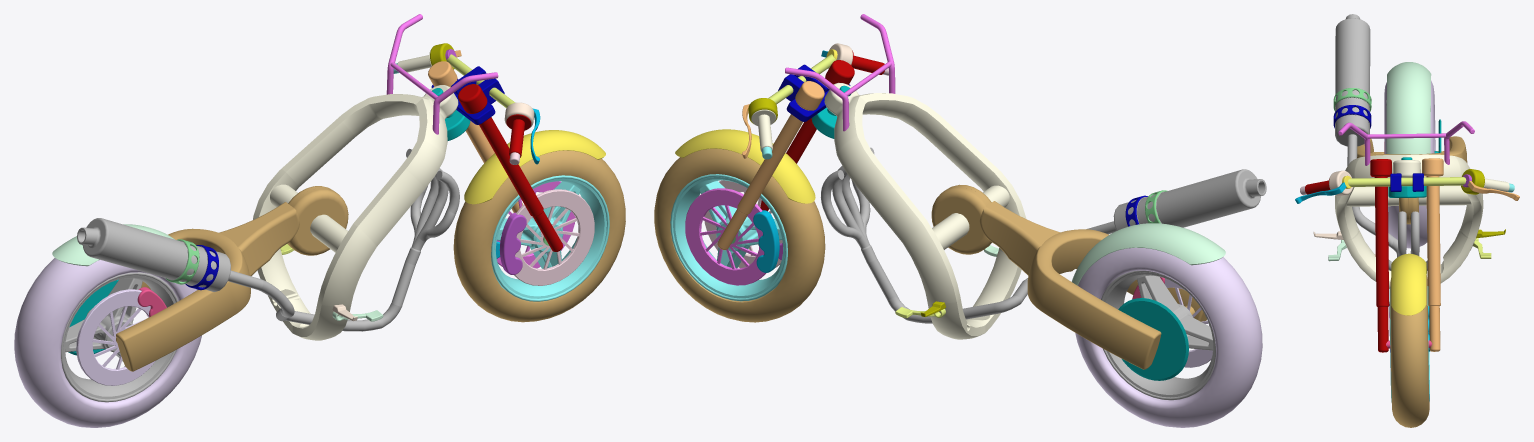
File: internal_mechanical_assembly.glb
The picture shows the model from 3 angles, left to right: view 1: azimuth 30°, elevation 25°; view 2: azimuth 150°, elevation 25°; view 3: azimuth 270°, elevation 25°; orthographic projection. The views are drawn at different scales.
Visible parts, largest first — view 1: User Library-racing bike_racing bike.sldasm-Part-25-1, User Library-racing bike_racing bike.sldasm-Part-42-1, User Library-racing bike_racing bike.sldasm-Part-20-1, User Library-racing bike_racing bike.sldasm-Part-43-1, User Library-racing bike_racing bike.sldasm-Part-9-1, User Library-racing bike_racing bike.sldasm-Part-38-1, User Library-racing bike_racing bike.sldasm-Part-31-1, User Library-racing bike_racing bike.sldasm-Part-40-1, User Library-racing bike_racing bike.sldasm-Part-2-1, User Library-racing bike_racing bike.sldasm-Part-34-1, User Library-racing bike_racing bike.sldasm-Part-26-1, User Library-racing bike_racing bike.sldasm-Part-16-1 (+8 smaller); view 2: User Library-racing bike_racing bike.sldasm-Part-25-1, User Library-racing bike_racing bike.sldasm-Part-42-1, User Library-racing bike_racing bike.sldasm-Part-20-1, User Library-racing bike_racing bike.sldasm-Part-43-1, User Library-racing bike_racing bike.sldasm-Part-9-1, User Library-racing bike_racing bike.sldasm-Part-38-1, User Library-racing bike_racing bike.sldasm-Part-31-1, User Library-racing bike_racing bike.sldasm-Part-39-1, User Library-racing bike_racing bike.sldasm-Part-27-1, User Library-racing bike_racing bike.sldasm-Part-41-1, User Library-racing bike_racing bike.sldasm-Part-34-1, User Library-racing bike_racing bike.sldasm-Part-36-1 (+8 smaller); view 3: User Library-racing bike_racing bike.sldasm-Part-25-1, User Library-racing bike_racing bike.sldasm-Part-9-1, User Library-racing bike_racing bike.sldasm-Part-43-1, User Library-racing bike_racing bike.sldasm-Part-27-1, User Library-racing bike_racing bike.sldasm-Part-36-1, User Library-racing bike_racing bike.sldasm-Part-26-1, User Library-racing bike_racing bike.sldasm-Part-34-1, User Library-racing bike_racing bike.sldasm-Part-42-1, User Library-racing bike_racing bike.sldasm-Part-16-1, User Library-racing bike_racing bike.sldasm-Part-20-1, User Library-racing bike_racing bike.sldasm-Part-17-1, User Library-racing bike_racing bike.sldasm-Part-30-1 (+10 smaller).
Part boxes in pixels (bbox=[...]): User Library-racing bike_racing bike.sldasm-Part-25-1: bbox=[253, 85, 458, 340]; User Library-racing bike_racing bike.sldasm-Part-42-1: bbox=[14, 258, 201, 427]; User Library-racing bike_racing bike.sldasm-Part-20-1: bbox=[87, 186, 348, 371]; User Library-racing bike_racing bike.sldasm-Part-43-1: bbox=[453, 150, 625, 322]; User Library-racing bike_racing bike.sldasm-Part-9-1: bbox=[77, 148, 459, 331]; User Library-racing bike_racing bike.sldasm-Part-38-1: bbox=[491, 175, 609, 301]; User Library-racing bike_racing bike.sldasm-Part-31-1: bbox=[61, 272, 178, 402]; User Library-racing bike_racing bike.sldasm-Part-40-1: bbox=[514, 189, 594, 285]; User Library-racing bike_racing bike.sldasm-Part-2-1: bbox=[76, 289, 155, 385]; User Library-racing bike_racing bike.sldasm-Part-34-1: bbox=[464, 130, 605, 204]; User Library-racing bike_racing bike.sldasm-Part-26-1: bbox=[458, 84, 562, 251]; User Library-racing bike_racing bike.sldasm-Part-16-1: bbox=[386, 14, 498, 134]; User Library-racing bike_racing bike.sldasm-Part-25-1: bbox=[824, 82, 1026, 339]; User Library-racing bike_racing bike.sldasm-Part-42-1: bbox=[1075, 247, 1262, 427]; User Library-racing bike_racing bike.sldasm-Part-20-1: bbox=[931, 184, 1206, 369]; User Library-racing bike_racing bike.sldasm-Part-43-1: bbox=[654, 148, 825, 322]; User Library-racing bike_racing bike.sldasm-Part-9-1: bbox=[820, 147, 1266, 323]; User Library-racing bike_racing bike.sldasm-Part-38-1: bbox=[670, 174, 787, 301]; User Library-racing bike_racing bike.sldasm-Part-31-1: bbox=[1101, 270, 1215, 400]; User Library-racing bike_racing bike.sldasm-Part-39-1: bbox=[685, 188, 766, 285]; User Library-racing bike_racing bike.sldasm-Part-27-1: bbox=[1071, 223, 1225, 285]; User Library-racing bike_racing bike.sldasm-Part-41-1: bbox=[1118, 298, 1188, 380]; User Library-racing bike_racing bike.sldasm-Part-34-1: bbox=[675, 129, 815, 203]; User Library-racing bike_racing bike.sldasm-Part-36-1: bbox=[717, 81, 824, 250]; User Library-racing bike_racing bike.sldasm-Part-25-1: bbox=[1335, 154, 1483, 288]; User Library-racing bike_racing bike.sldasm-Part-9-1: bbox=[1335, 14, 1427, 270]; User Library-racing bike_racing bike.sldasm-Part-43-1: bbox=[1390, 275, 1429, 427]; User Library-racing bike_racing bike.sldasm-Part-27-1: bbox=[1386, 62, 1431, 154]; User Library-racing bike_racing bike.sldasm-Part-36-1: bbox=[1422, 158, 1443, 351]; User Library-racing bike_racing bike.sldasm-Part-26-1: bbox=[1370, 159, 1391, 352]; User Library-racing bike_racing bike.sldasm-Part-34-1: bbox=[1391, 253, 1426, 315]; User Library-racing bike_racing bike.sldasm-Part-42-1: bbox=[1384, 80, 1435, 248]; User Library-racing bike_racing bike.sldasm-Part-16-1: bbox=[1338, 121, 1474, 165]; User Library-racing bike_racing bike.sldasm-Part-20-1: bbox=[1357, 136, 1467, 224]; User Library-racing bike_racing bike.sldasm-Part-17-1: bbox=[1348, 177, 1466, 186]; User Library-racing bike_racing bike.sldasm-Part-30-1: bbox=[1390, 173, 1423, 191].
Size of the model in its own units: 0.1382 by 0.0652 by 0.0518.
